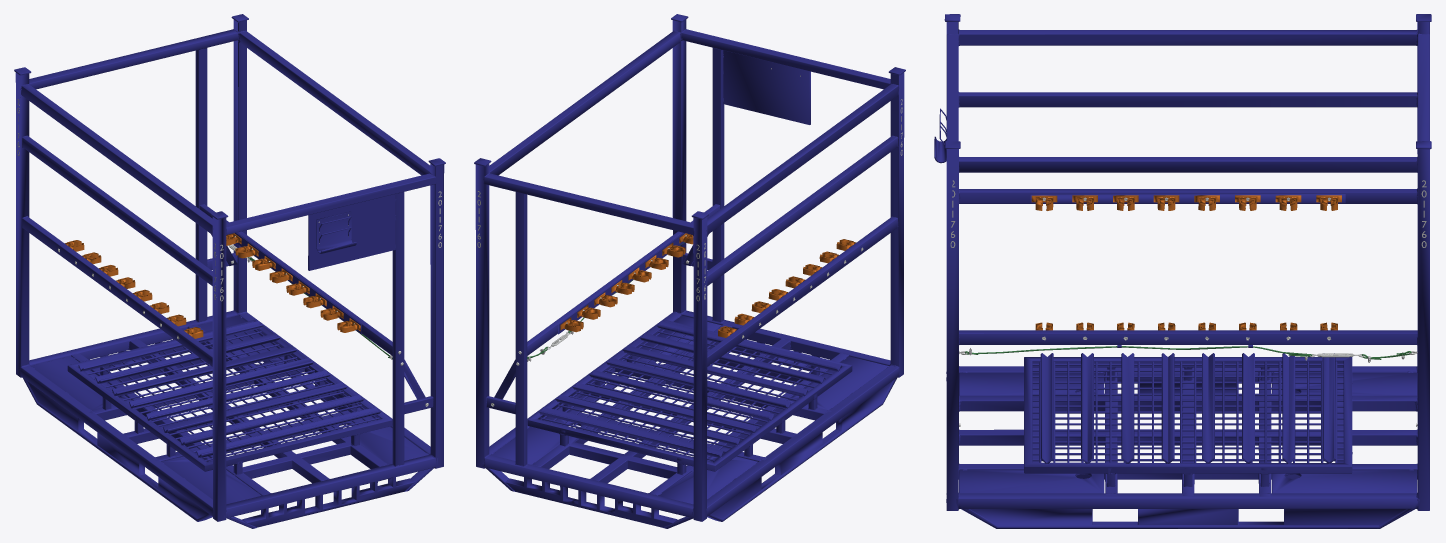
File: stillage.glb
3 views of the same model, side by side, from view 1: azimuth 30°, elevation 25°; view 2: azimuth 150°, elevation 25°; view 3: azimuth 270°, elevation 25° (orthographic). The views are drawn at different scales.
Parts seen in each view (by area): view 1: body_01_mesh_00; view 2: body_01_mesh_00; view 3: body_01_mesh_00.
Boxes of the visible parts, x1,y1,x2,y2 form: body_01_mesh_00: (14,14,445,528); body_01_mesh_00: (474,14,905,528); body_01_mesh_00: (934,14,1431,528).
Size of the model in its own units: 1.12 by 1.49 by 1.75.
8 materials, 4 textured.
